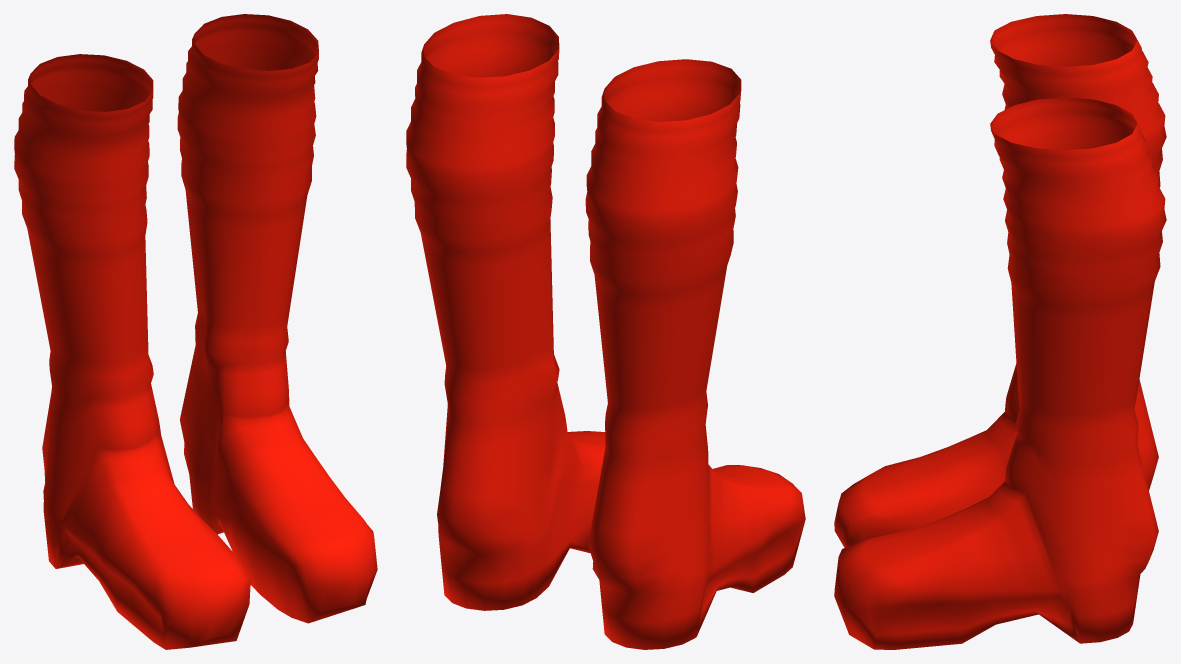
Rendered from Harry_SupgShoes_Boy.fbx.
3 renders of one model, left to right at view 1: azimuth 30°, elevation 25°; view 2: azimuth 150°, elevation 25°; view 3: azimuth 270°, elevation 25°, orthographic. The views are drawn at different scales.
Parts seen in each view (by area): view 1: Super_girl_Shoes; view 2: Super_girl_Shoes; view 3: Super_girl_Shoes.
Part boxes in pixels (<box>): Super_girl_Shoes: <box>14,14,377,649</box>; Super_girl_Shoes: <box>406,14,805,649</box>; Super_girl_Shoes: <box>834,14,1166,649</box>.
Bounding box in the file's own units: 11.63 × 19.81 × 11.51.
